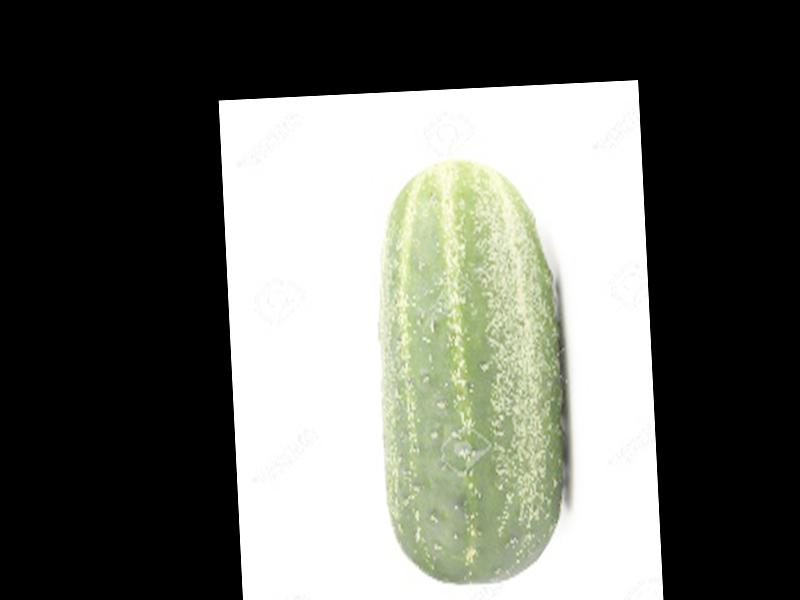Cucumber: (370, 158, 574, 591)
